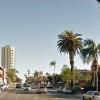Palm tree: (52, 21, 98, 89)
